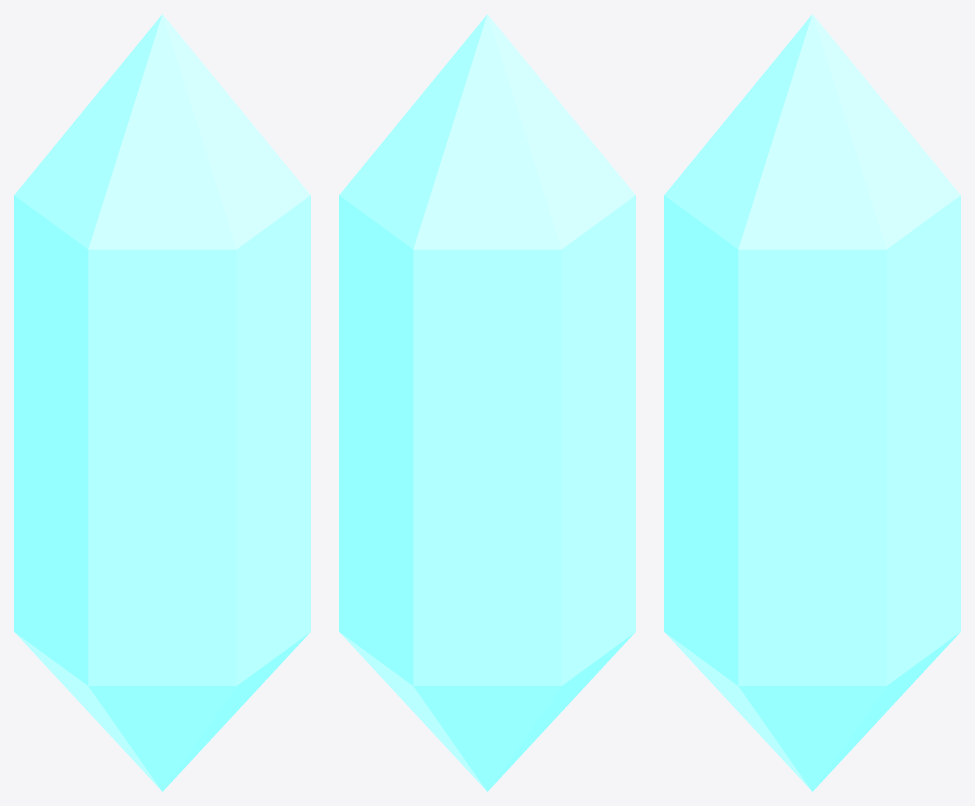
File: cuarzo.glb
The picture shows the model from 3 angles, left to right: view 1: azimuth 30°, elevation 25°; view 2: azimuth 150°, elevation 25°; view 3: azimuth 270°, elevation 25°; orthographic projection.
Parts seen in each view (by area): view 1: Cylinder; view 2: Cylinder; view 3: Cylinder.
Part boxes in pixels (x1,y1,x2,y2): Cylinder: (14, 14, 310, 791); Cylinder: (339, 14, 635, 791); Cylinder: (664, 14, 960, 791).
Bounding box in the file's own units: 1.73 × 5.79 × 2.
